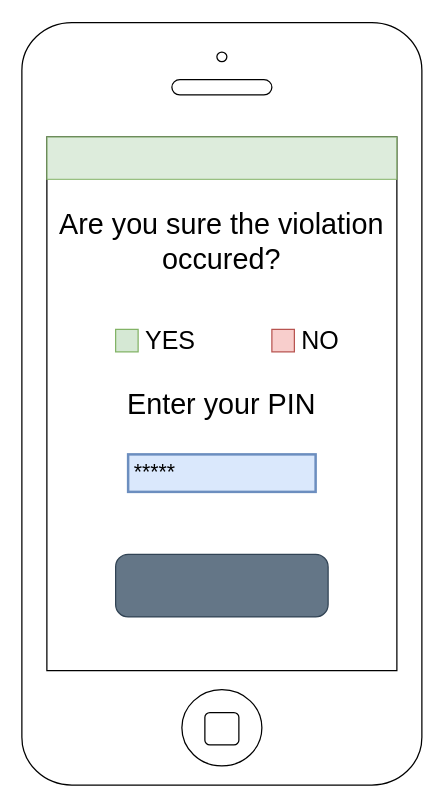
Some shapes in this 444 by 806 pixel diagram are drawn without their labels. The shapes that lost their labels are listed below. From the top down, each one's centre as x and y in pixels, then its label:
point 221,157: Under investigation
point 221,585: SEND
